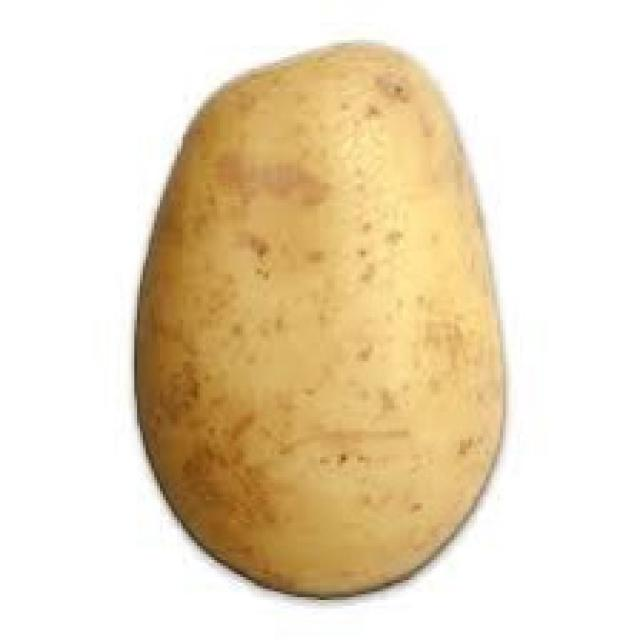healthy: (119, 28, 520, 612)
